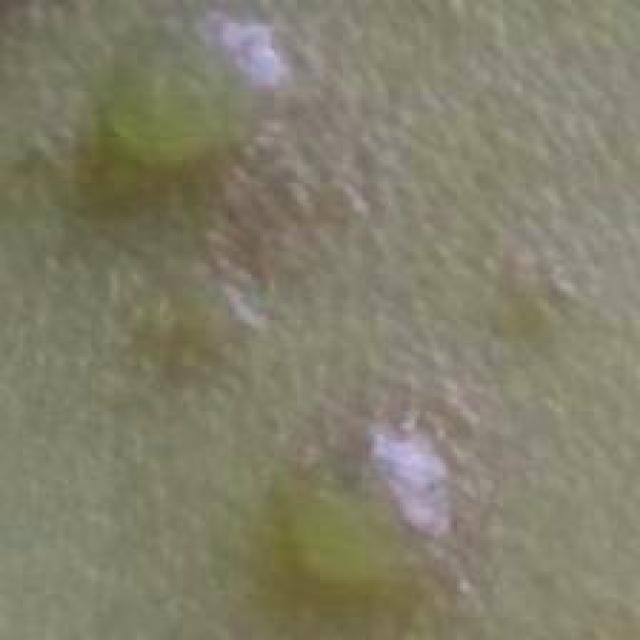others: (20, 0, 538, 639)
